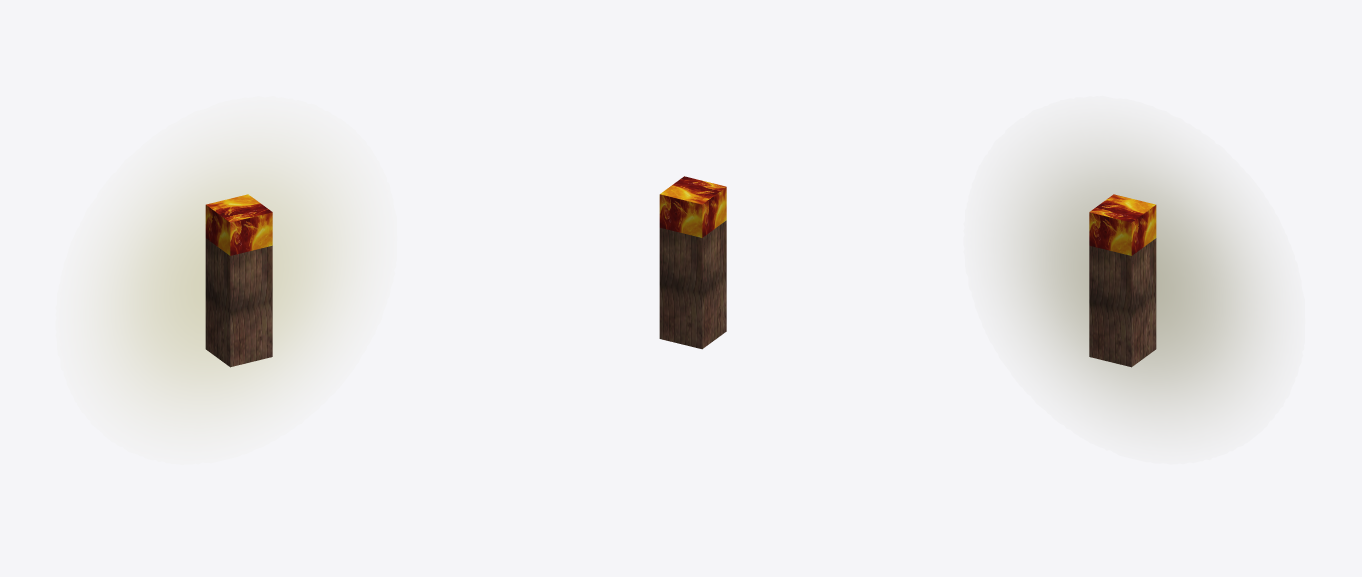
The model's file is torch.glb.
3 views of the same model, side by side, from view 1: azimuth 30°, elevation 25°; view 2: azimuth 150°, elevation 25°; view 3: azimuth 330°, elevation 25° (orthographic).
Visible parts, largest first — view 1: Light, Base, Fire; view 2: Base, Fire; view 3: Light, Base, Fire.
Boxes of the visible parts, x1,y1,x2,y2 form: Light: [100, 144, 352, 416]; Base: [205, 238, 272, 367]; Fire: [205, 194, 272, 255]; Base: [659, 220, 726, 349]; Fire: [659, 176, 726, 237]; Light: [1008, 144, 1260, 415]; Base: [1089, 238, 1156, 367]; Fire: [1089, 194, 1156, 255].
Bounding box in the file's own units: 2 × 2 × 0.2.
Materials: 3 (3 with a texture image).
